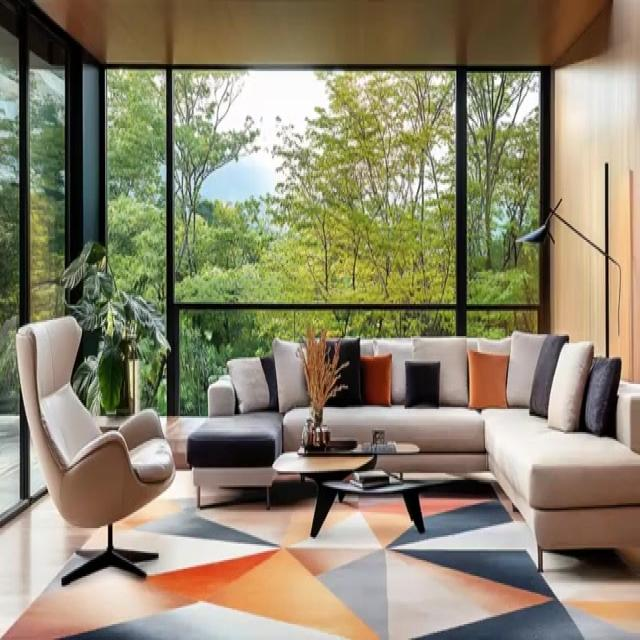obstacle: (186, 330, 639, 572), (15, 313, 175, 585), (266, 437, 458, 537)
